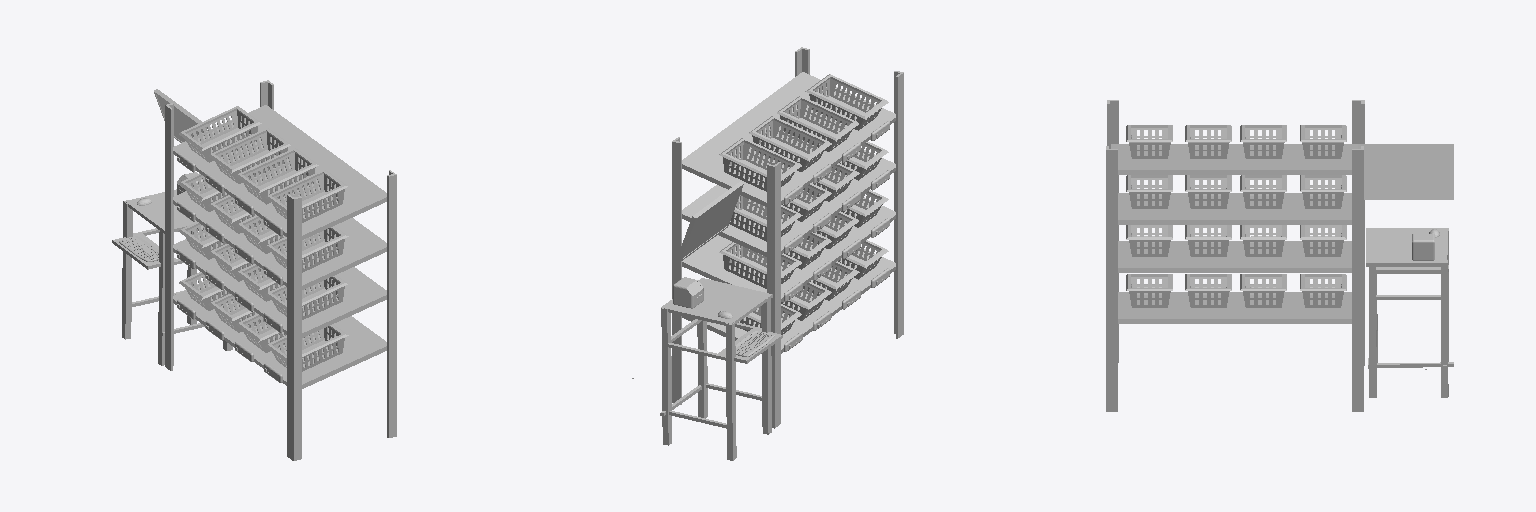
Rendered from fenjianqiang_terminal_at_left.obj.
3 renders of one model, left to right at view 1: azimuth 30°, elevation 25°; view 2: azimuth 150°, elevation 25°; view 3: azimuth 270°, elevation 25°, orthographic.
Visible parts, largest first — view 1: 工作台1.obj.1; view 2: 工作台1.obj.1; view 3: 工作台1.obj.1.
Part boxes in pixels (x1,y1,x2,y2): 工作台1.obj.1: (112,80,396,460); 工作台1.obj.1: (632,47,903,460); 工作台1.obj.1: (1106,100,1453,411).
Bounding box in the file's own units: 57.55 × 118 × 141.